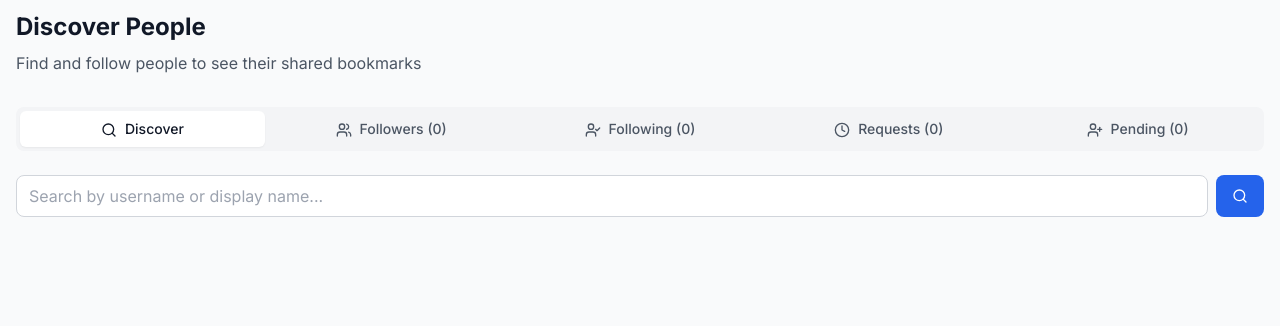
Test: Discover Page › Following Tab › should show empty state when not following anyone
Click the button "Following (0)".
click(640, 129)  # box [518,111,762,147]
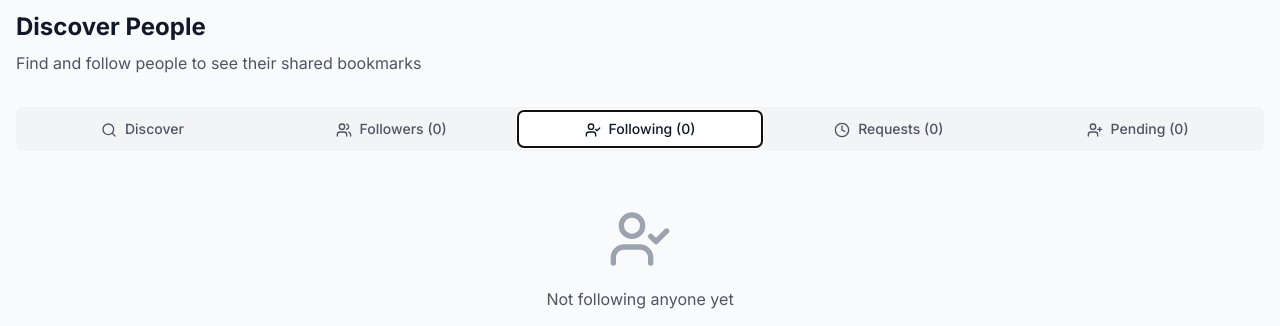
Expected: the text "Not following anyone yet" is shown, [546,289,734,309]
